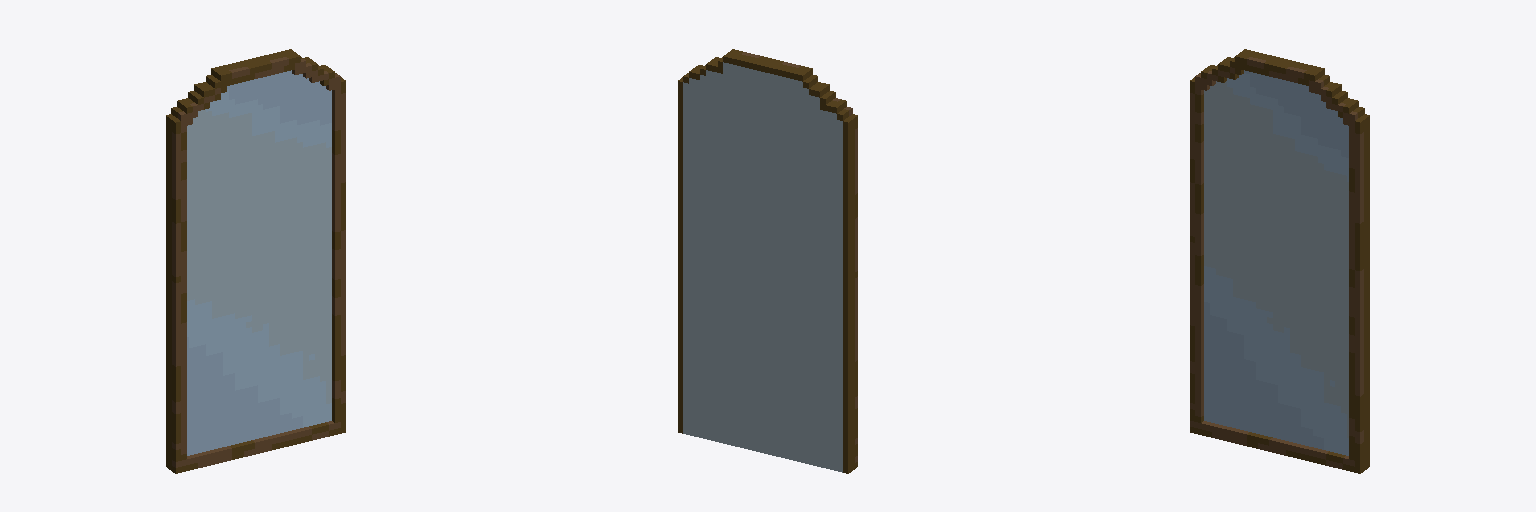
The picture shows the model from 3 angles: view 1: azimuth 30°, elevation 25°; view 2: azimuth 150°, elevation 25°; view 3: azimuth 330°, elevation 25°; orthographic projection.
Visible parts, largest first — view 1: object 1; view 2: object 1; view 3: object 1.
Boxes of the visible parts, box(x1,y1,x2,y2) form: object 1: box(166, 49, 345, 473); object 1: box(678, 49, 857, 473); object 1: box(1190, 49, 1369, 473).
Size of the model in its own units: 3 by 6.5 by 0.3.
Materials: 1 (1 with a texture image).